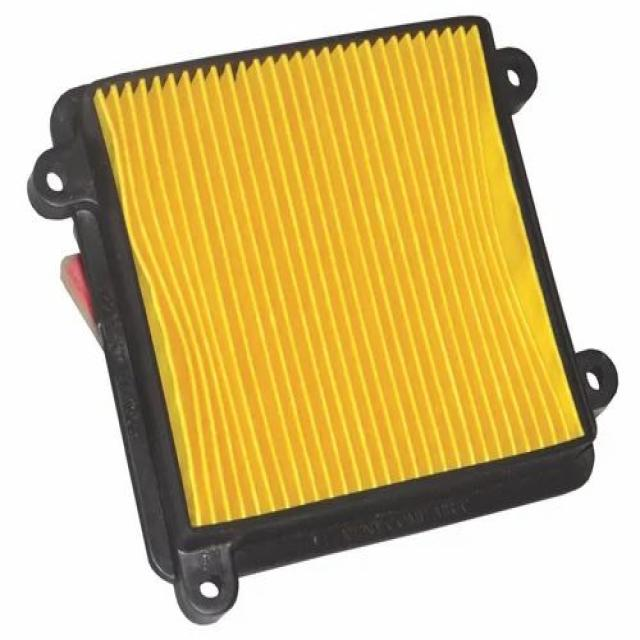air_filter: (31, 0, 576, 566)
